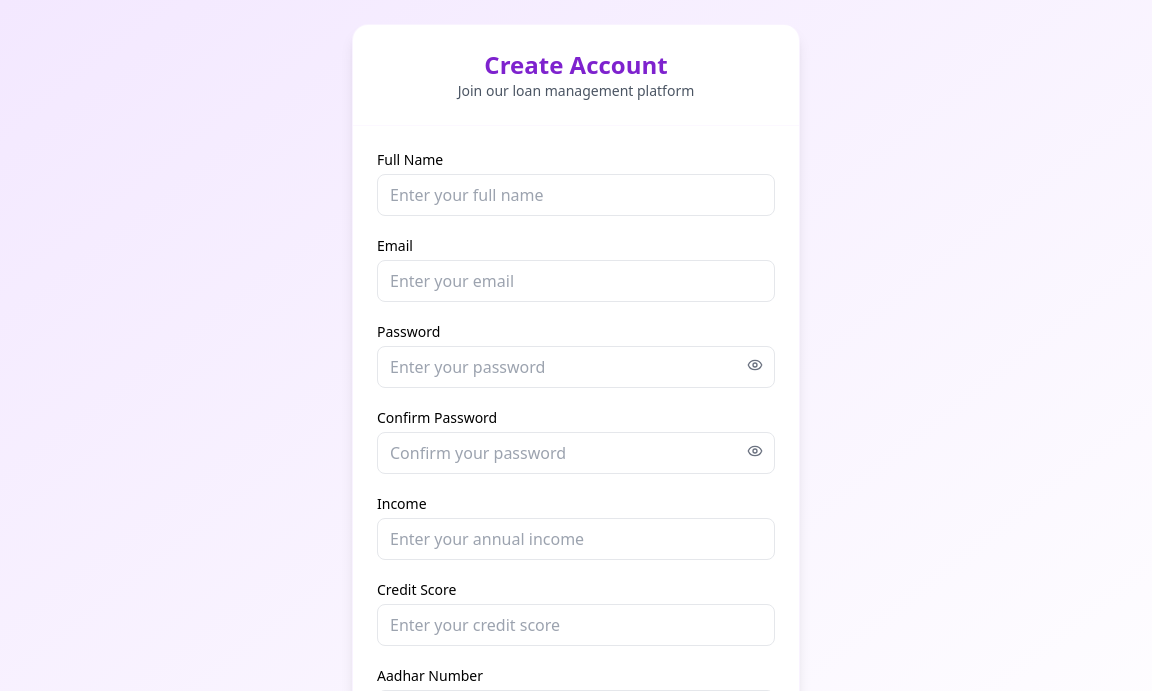
UserRegistrationForm.vue › shows validation error for invalid name
Type "A" into the field with id "name".
click(576, 195); type("A")  # box [377,174,775,216]
(page scrolled)
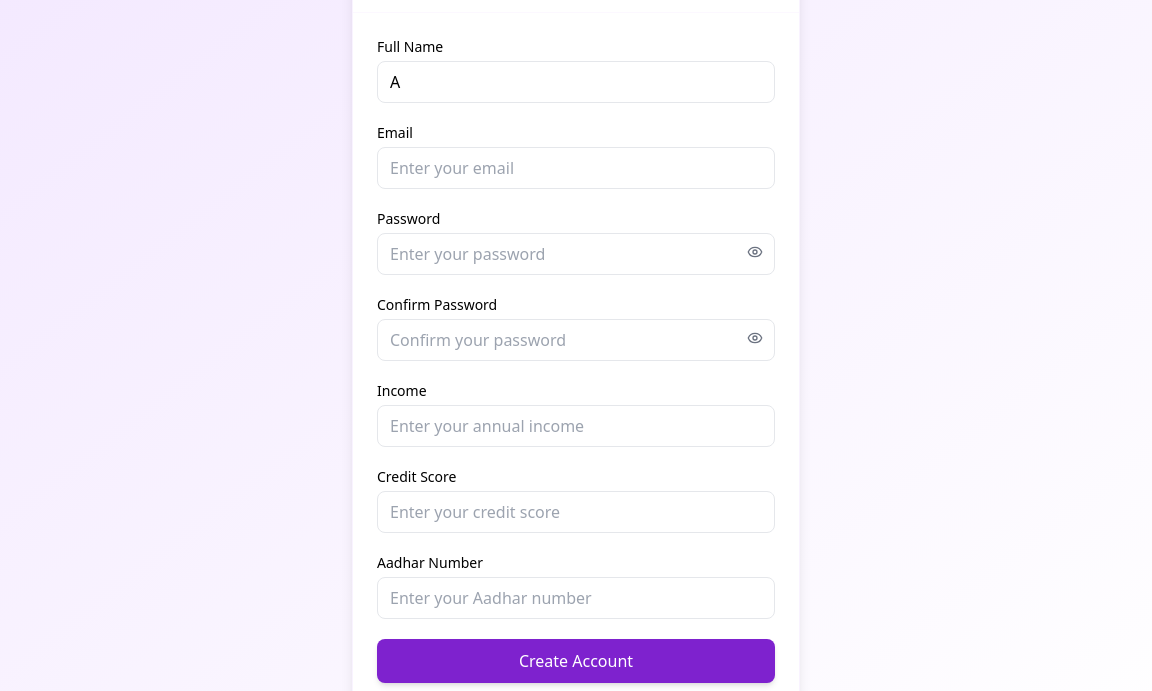
Submit the form, box [377,37,775,683]
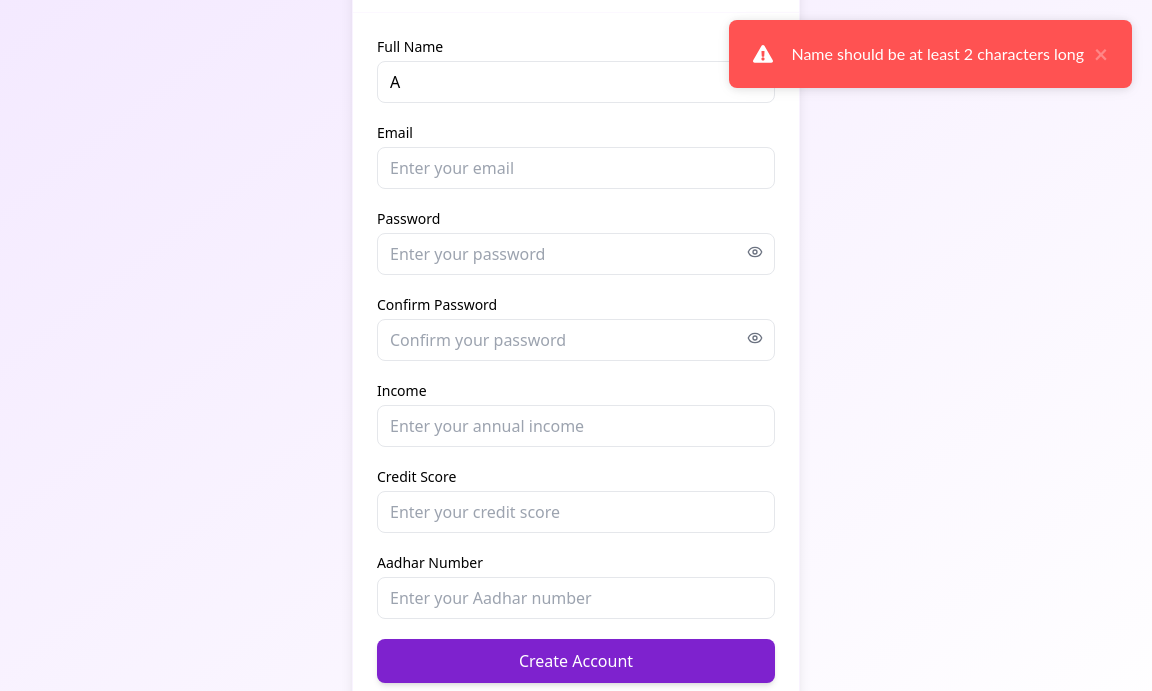
Expected: the text "Name should be at least 2 characters long" is shown, [791,42,1084,66]
